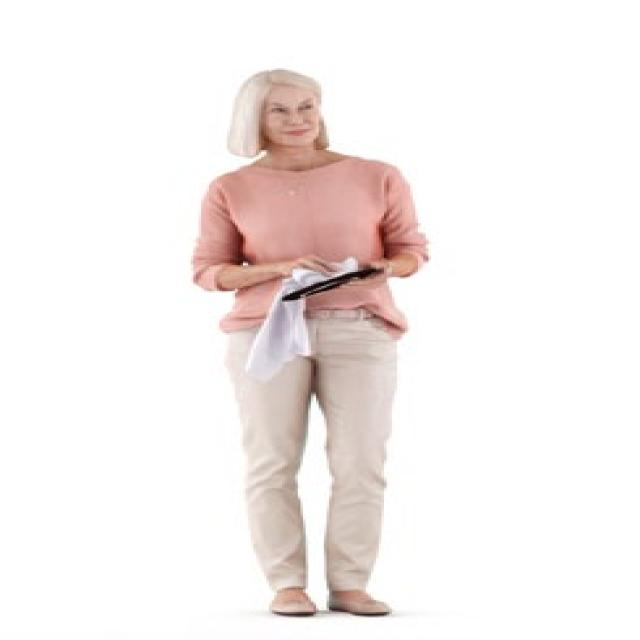standing: (182, 67, 448, 628)
